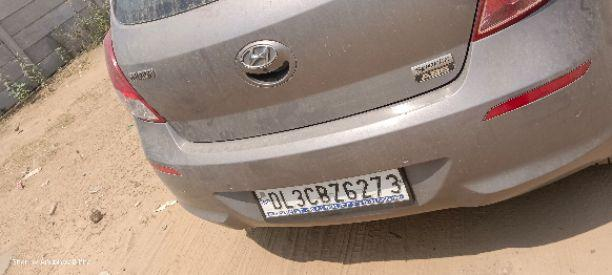license_plate: (251, 166, 415, 221)
